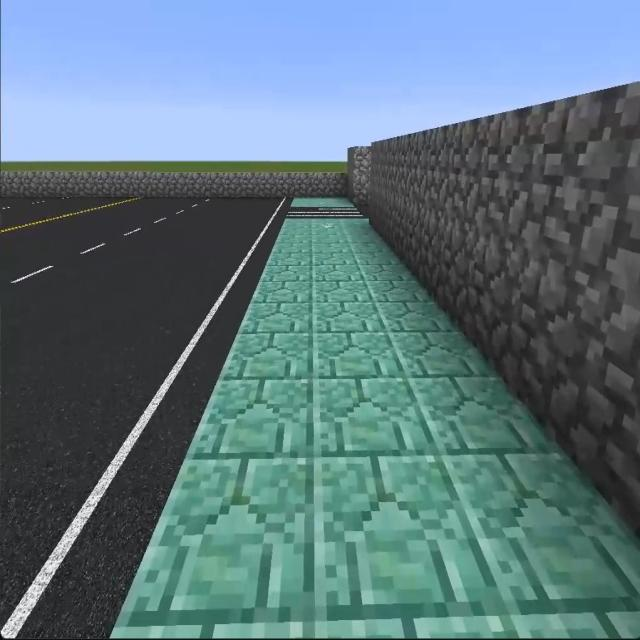crosswalk: (285, 208, 361, 216)
road: (3, 195, 289, 628), (360, 205, 369, 216)
sidewalk: (111, 219, 639, 639), (291, 196, 355, 208)
